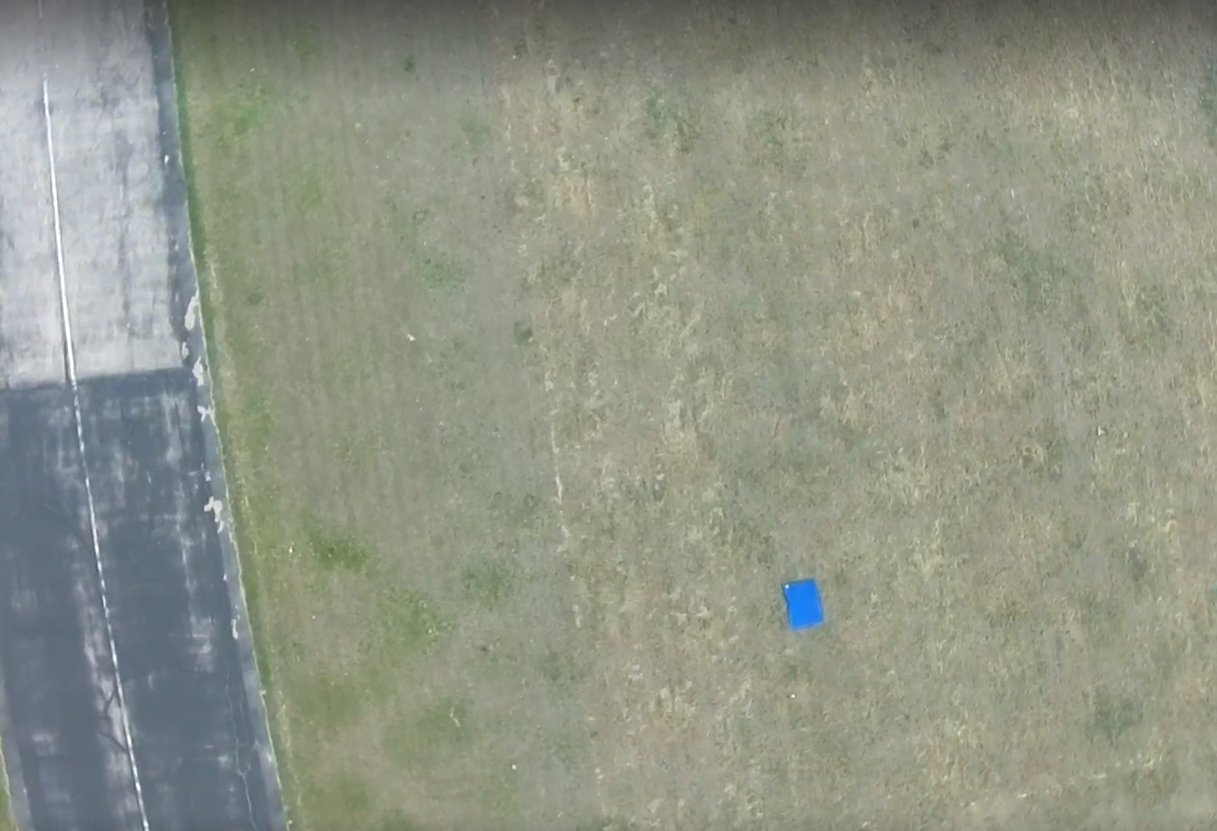TOI: (778, 578, 826, 627)
